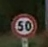limite 50: (10, 12, 37, 37)
